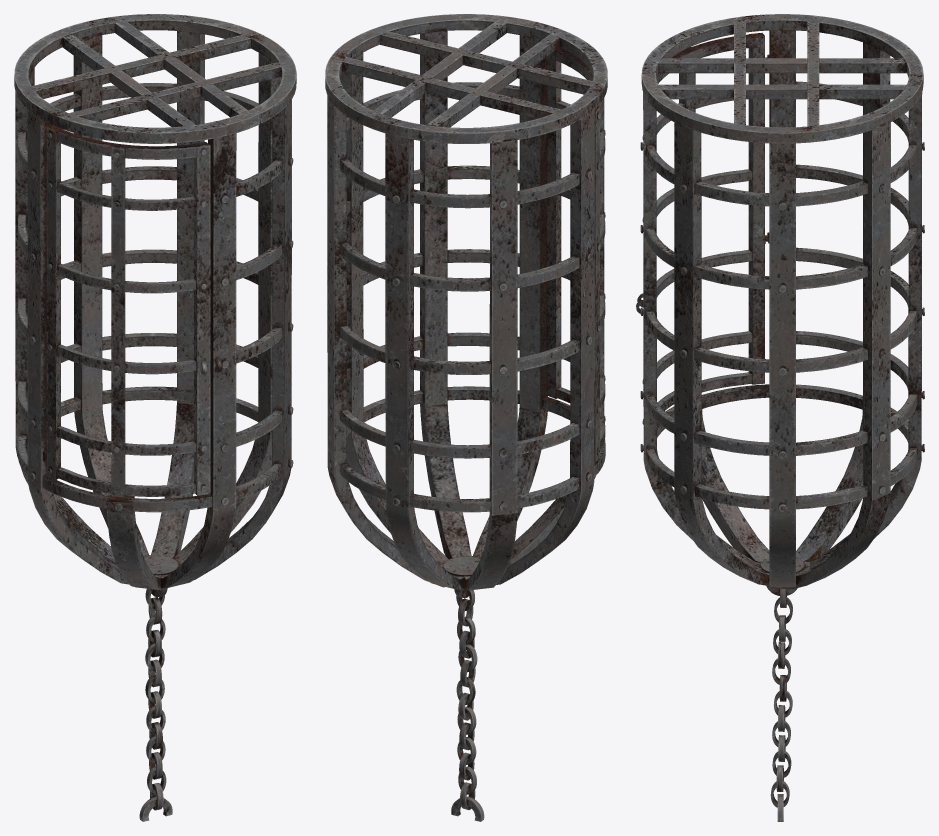
File: cage.fbx
3 views of the same model, side by side, from view 1: azimuth 30°, elevation 25°; view 2: azimuth 150°, elevation 25°; view 3: azimuth 270°, elevation 25° (orthographic).
Visible parts, largest first — view 1: Cage, Cage.001; view 2: Cage, Cage.001; view 3: Cage, Cage.001.
Part boxes in pixels (x1,y1,x2,y2): Cage: (15,31,293,821); Cage.001: (14,14,296,143); Cage: (327,31,605,821); Cage.001: (325,14,607,143); Cage: (636,30,924,821); Cage.001: (641,14,923,143).
Size of the model in its own units: 99.03 by 286 by 101.
1 material, 1 textured.
